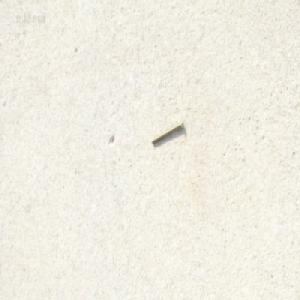Bolt: (150, 118, 183, 145)
